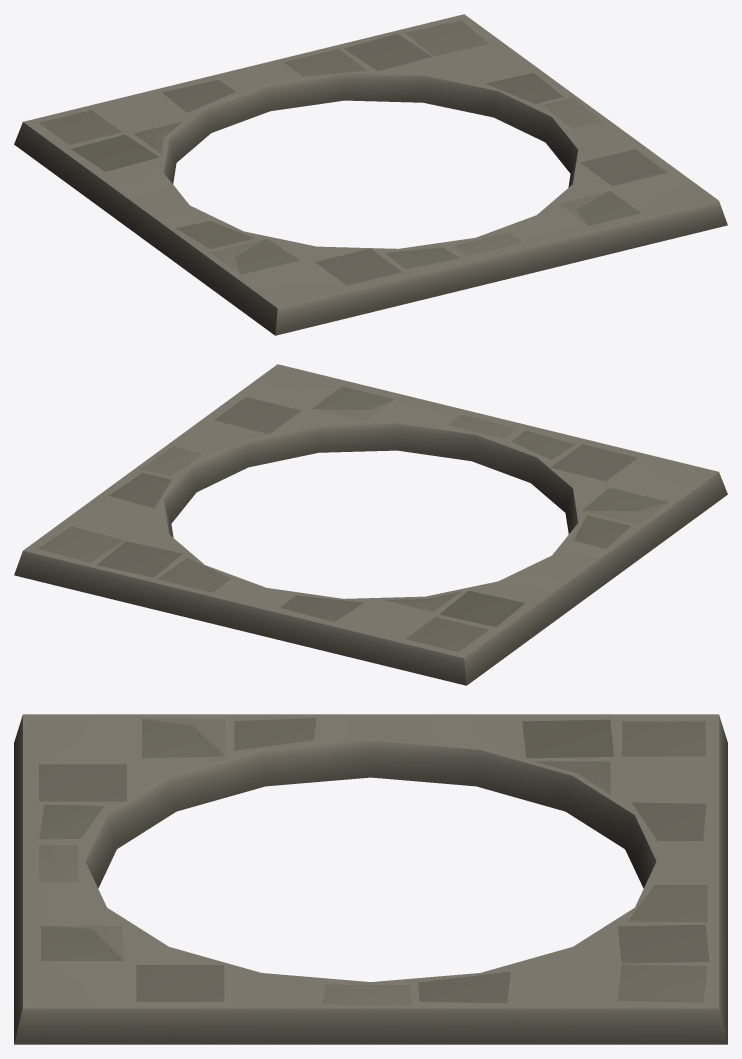
File: TSP_Pavement_02A_Special.fbx
The picture shows the model from 3 angles, top to bottom: view 1: azimuth 30°, elevation 25°; view 2: azimuth 150°, elevation 25°; view 3: azimuth 270°, elevation 25°; orthographic projection. The views are drawn at different scales.
Visible parts, largest first — view 1: TSP_Pavement_02A_Special; view 2: TSP_Pavement_02A_Special; view 3: TSP_Pavement_02A_Special.
Boxes of the visible parts, <box> form: TSP_Pavement_02A_Special: <box>14,14,727,335</box>; TSP_Pavement_02A_Special: <box>14,364,727,685</box>; TSP_Pavement_02A_Special: <box>14,714,727,1044</box>.
Bounding box in the file's own units: 4 × 0.21 × 4.
